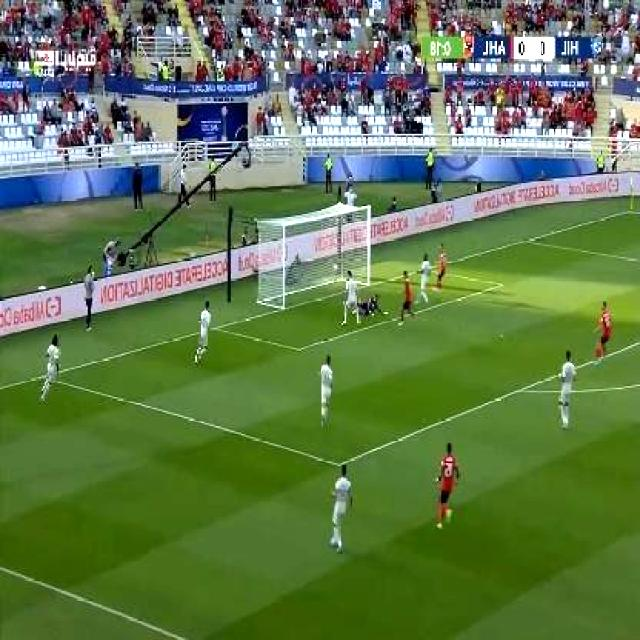bigarea_bottom_inner: (328, 451, 348, 474)
bigarea_top_outter: (518, 230, 536, 248)
bottom_arc_area_intersection: (511, 377, 532, 401)
corner: (624, 203, 640, 217)
smallarea_bottom_inner: (290, 337, 308, 360)
smallarea_bottom_outter: (208, 317, 226, 338)
smallarea_top_inner: (489, 274, 514, 295)
